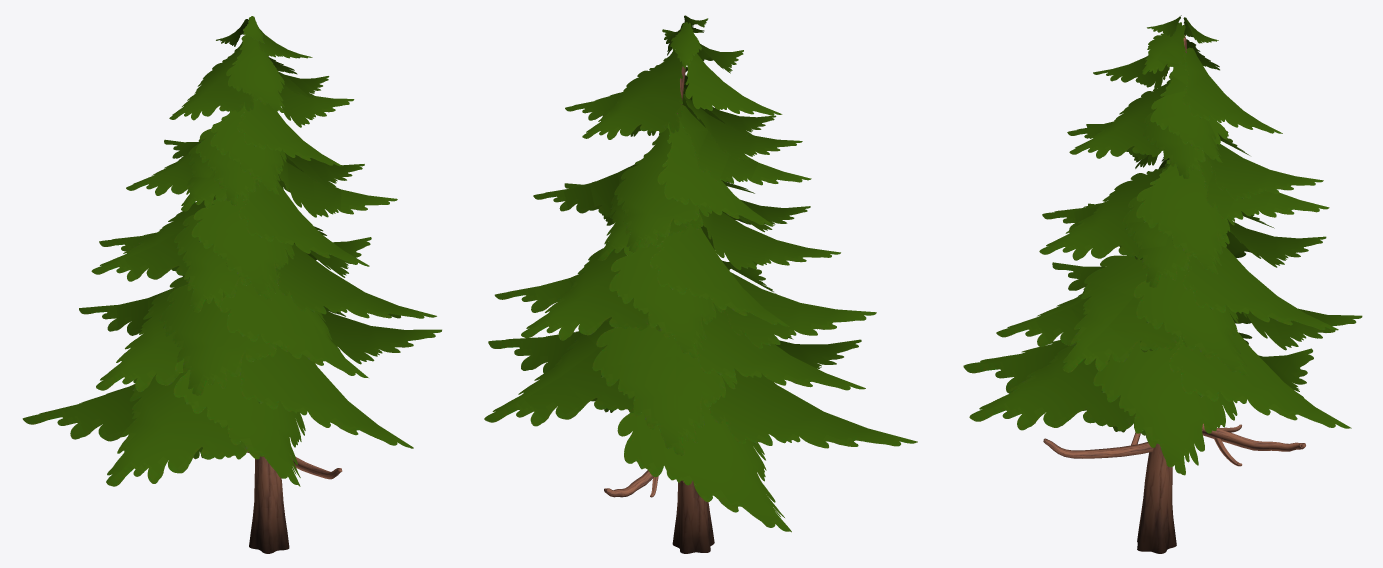
File: Pine_2.glb
3 renders of one model, left to right at view 1: azimuth 30°, elevation 25°; view 2: azimuth 150°, elevation 25°; view 3: azimuth 270°, elevation 25°, orthographic. The views are drawn at different scales.
Visible parts, largest first — view 1: Pine_2; view 2: Pine_2; view 3: Pine_2.
Part boxes in pixels (x1,y1,x2,y2): Pine_2: (22, 16, 441, 553); Pine_2: (484, 15, 917, 553); Pine_2: (963, 15, 1362, 553).
Bounding box in the file's own units: 5.73 × 7.38 × 5.22.
2 materials, 2 textured.
